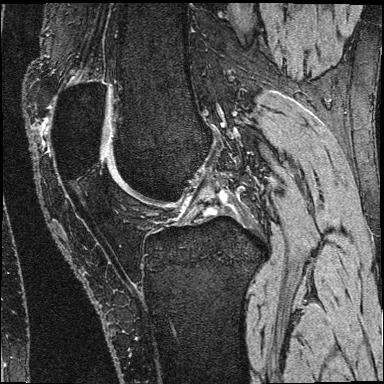SagKneeJointArea: (50, 79, 272, 314)
